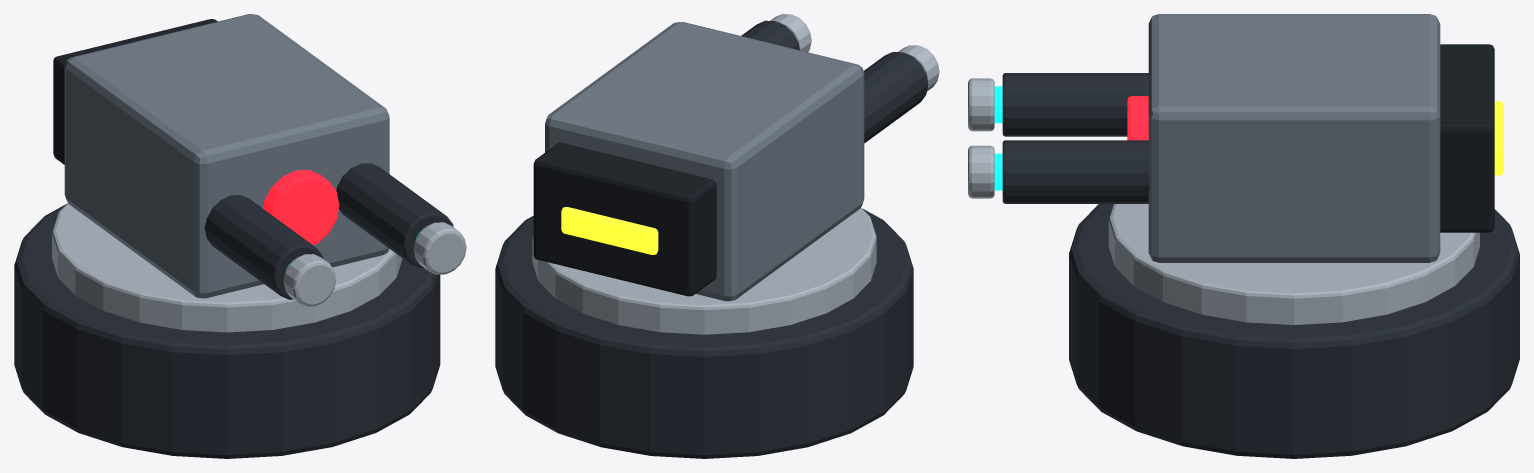
The model's file is plasma_defense_turret.glb.
The picture shows the model from 3 angles, left to right: view 1: azimuth 30°, elevation 25°; view 2: azimuth 150°, elevation 25°; view 3: azimuth 270°, elevation 25°; orthographic projection. The views are drawn at different scales.
Parts seen in each view (by area): view 1: Turret_Pod, Turret_Base, Swivel_Ring, Barrel_Sleeve_-0.3, Barrel_Sleeve_0.3, Targeting_Eye, Muzzle_0.3, Muzzle_-0.3, Ammo_Pack; view 2: Turret_Base, Turret_Pod, Ammo_Pack, Swivel_Ring, Barrel_Sleeve_-0.3, Ammo_Status, Barrel_Sleeve_0.3, Muzzle_-0.3, Muzzle_0.3; view 3: Turret_Pod, Turret_Base, Swivel_Ring, Ammo_Pack, Barrel_Sleeve_0.3, Barrel_Sleeve_-0.3, Muzzle_0.3, Muzzle_-0.3, Targeting_Eye, Ammo_Status.
Boxes of the visible parts, box(x1,y1,x2,y2) form: Turret_Pod: box(64, 14, 389, 298); Turret_Base: box(14, 204, 440, 458); Swivel_Ring: box(52, 203, 402, 332); Barrel_Sleeve_-0.3: box(204, 195, 323, 299); Barrel_Sleeve_0.3: box(336, 163, 453, 267); Targeting_Eye: box(262, 170, 339, 245); Muzzle_0.3: box(413, 222, 466, 274); Muzzle_-0.3: box(283, 254, 336, 306); Ammo_Pack: box(53, 19, 217, 164); Turret_Base: box(495, 208, 913, 458); Turret_Pod: box(545, 22, 864, 301); Ammo_Pack: box(533, 142, 716, 296); Swivel_Ring: box(532, 207, 876, 334); Barrel_Sleeve_-0.3: box(864, 52, 928, 143); Ammo_Status: box(561, 207, 658, 254); Barrel_Sleeve_0.3: box(741, 20, 799, 50); Muzzle_-0.3: box(898, 45, 939, 91); Muzzle_0.3: box(770, 14, 811, 52); Turret_Pod: box(1148, 14, 1440, 262); Turret_Base: box(1069, 204, 1519, 458); Swivel_Ring: box(1108, 204, 1479, 324); Ammo_Pack: box(1440, 44, 1494, 232); Barrel_Sleeve_0.3: box(1002, 140, 1149, 203); Barrel_Sleeve_-0.3: box(1002, 73, 1148, 136); Muzzle_0.3: box(968, 145, 994, 198); Muzzle_-0.3: box(968, 78, 994, 131); Targeting_Eye: box(1127, 96, 1148, 140); Ammo_Status: box(1494, 101, 1503, 175).
Size of the model in its own units: 1.7 by 1.27 by 2.08.
